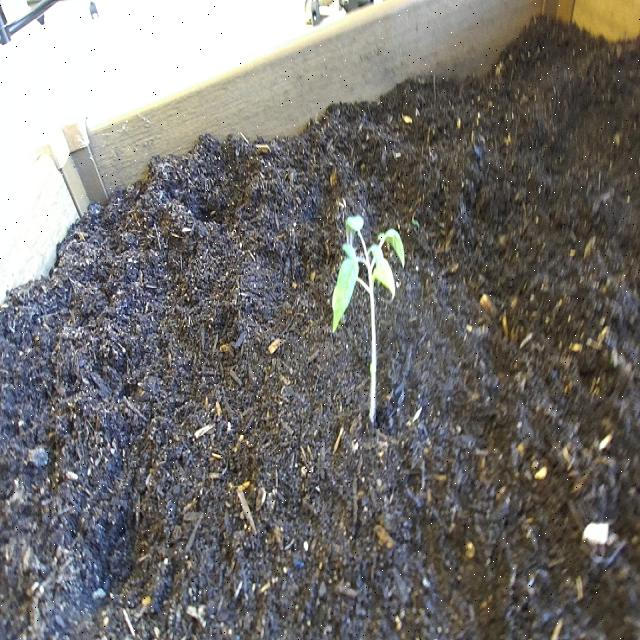Healthy: (328, 204, 410, 436)
